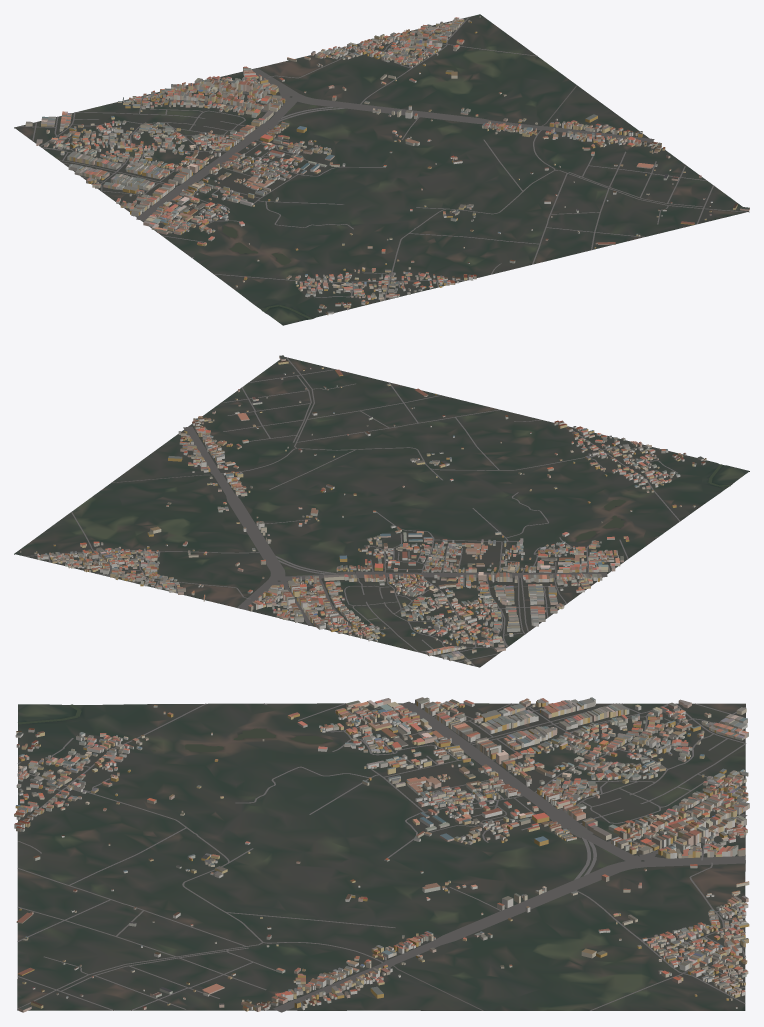
3 views of the same model, one above another, from view 1: azimuth 30°, elevation 25°; view 2: azimuth 150°, elevation 25°; view 3: azimuth 270°, elevation 25° (orthographic). The views are drawn at different scales.
Visible parts, largest first — view 1: ground, buildings, roads, water; view 2: ground, buildings, roads, water; view 3: ground, buildings, roads, water.
Boxes of the visible parts, x1,y1,x2,y2 form: ground: (14,14,749,325); buildings: (25,15,749,315); roads: (19,17,746,303); water: (222,225,312,319); ground: (14,357,749,667); buildings: (20,355,706,664); roads: (25,357,680,666); water: (575,464,730,541); ground: (17,703,745,1010); buildings: (14,697,749,1012); roads: (17,701,747,1012); water: (18,704,333,751).
Bounding box in the file's own units: 1416 × 28.64 × 1418.
